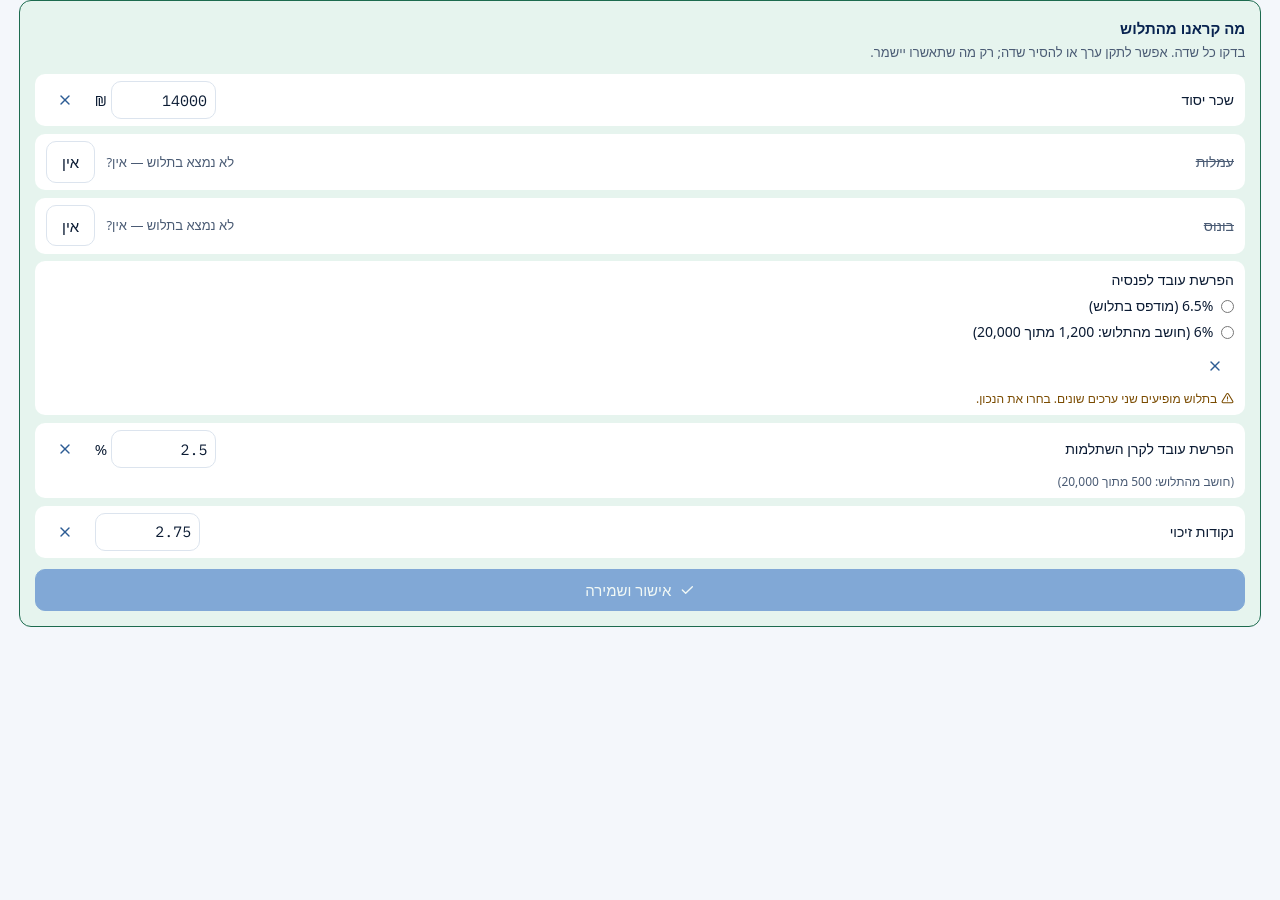
a payslip that prints amounts, not percents › two readings: the employee picks one, then the button is enabled
Check: the button "אישור ושמירה" is disabled, box [35,570,1245,611]
Click the radio button labelled "6.5% (מודפס בתלוש)": (1228, 306) [1221,300,1234,313]
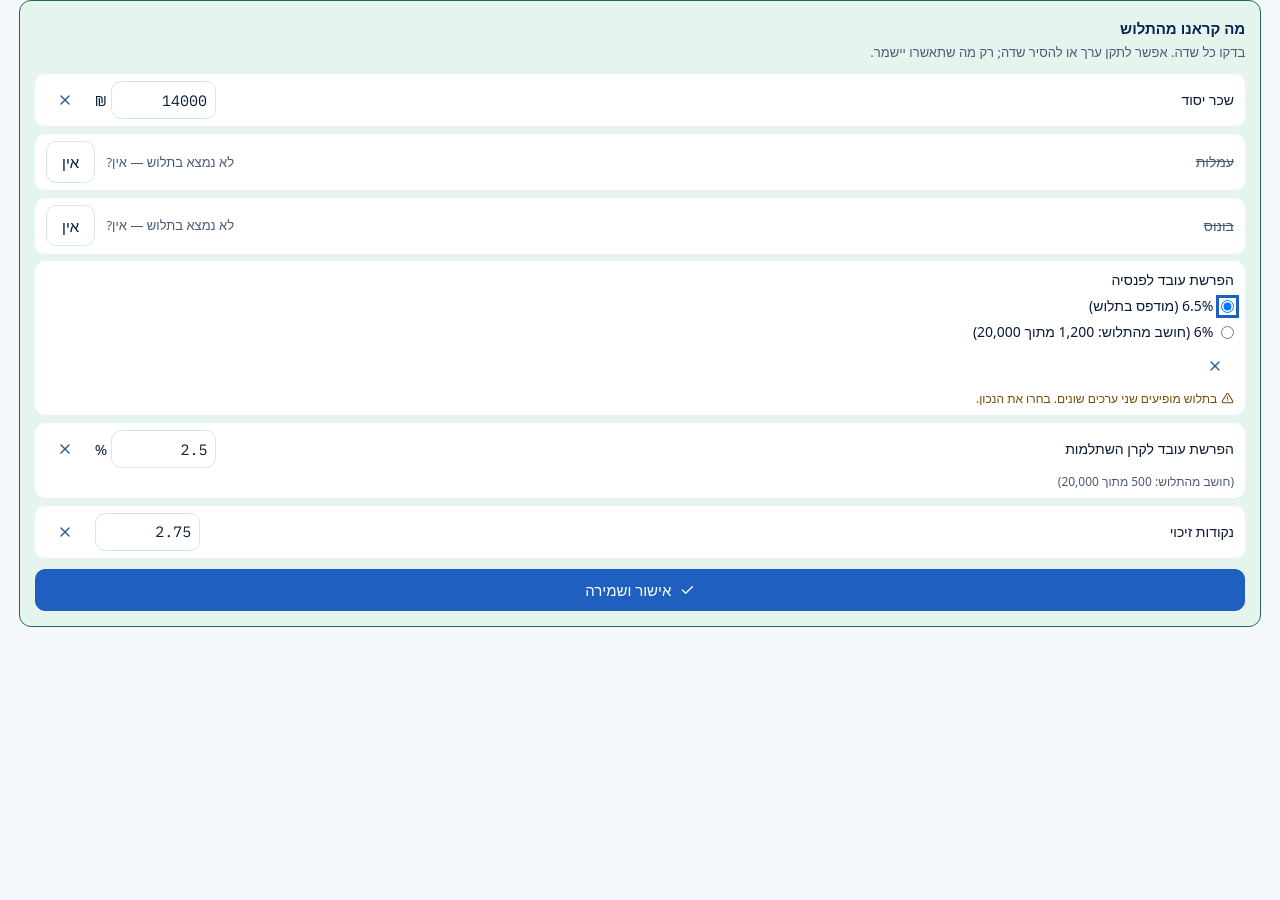
Check: the button "אישור ושמירה" is enabled, box [35,570,1245,611]
